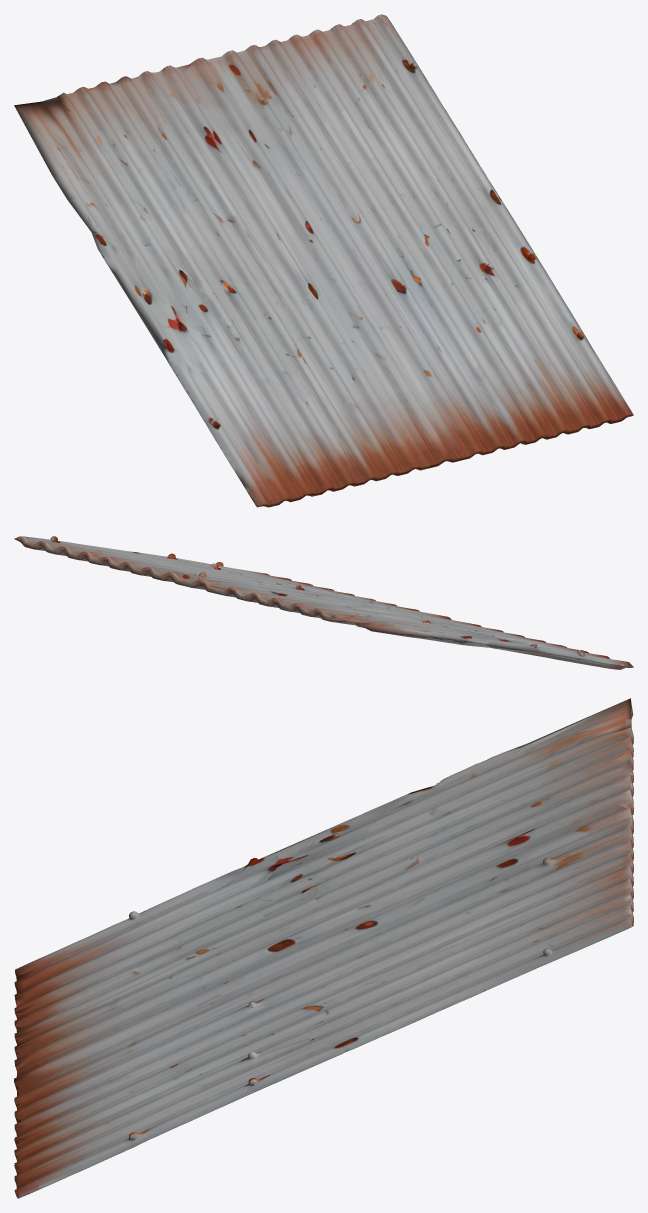
File: tole.fbx
3 views of the same model, one above another, from view 1: azimuth 30°, elevation 25°; view 2: azimuth 150°, elevation 25°; view 3: azimuth 270°, elevation 25° (orthographic). The views are drawn at different scales.
Parts seen in each view (by area): view 1: texture_pbr_v128; view 2: texture_pbr_v128; view 3: texture_pbr_v128.
Boxes of the visible parts, box(x1,y1,x2,y2) form: texture_pbr_v128: box(14, 14, 633, 507); texture_pbr_v128: box(14, 536, 633, 669); texture_pbr_v128: box(14, 698, 633, 1198).
Bounding box in the file's own units: 74.53 × 42.83 × 85.33.
Materials: 1 (1 with a texture image).
